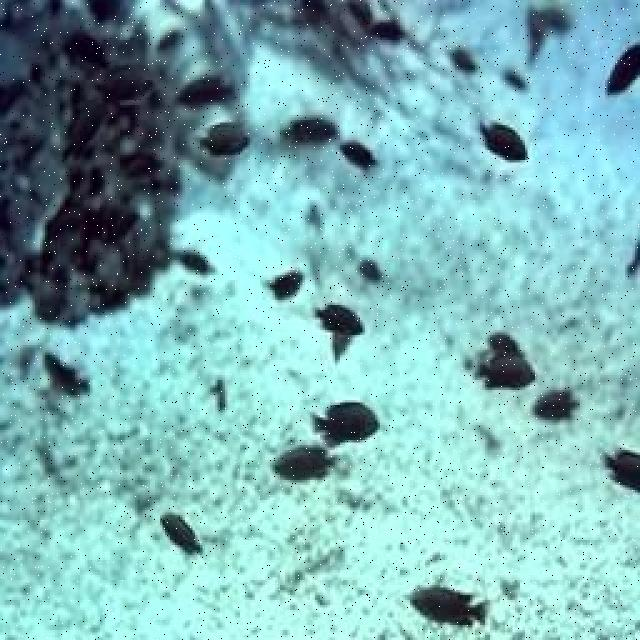fish: (476, 333, 540, 393), (311, 403, 381, 450), (409, 587, 488, 627), (79, 203, 142, 250), (269, 444, 347, 481), (528, 8, 575, 63), (174, 72, 238, 111), (99, 66, 161, 105), (194, 119, 251, 158), (162, 512, 211, 556), (483, 118, 527, 163), (44, 353, 89, 397), (599, 449, 638, 495), (62, 32, 108, 70), (155, 246, 216, 274), (311, 302, 366, 333), (608, 41, 638, 97), (282, 117, 344, 143), (67, 105, 97, 156), (532, 390, 579, 421), (261, 270, 306, 301), (338, 142, 377, 171), (119, 156, 163, 178), (371, 18, 409, 43), (84, 3, 123, 25), (332, 330, 356, 362), (451, 51, 483, 73), (361, 262, 379, 281)
